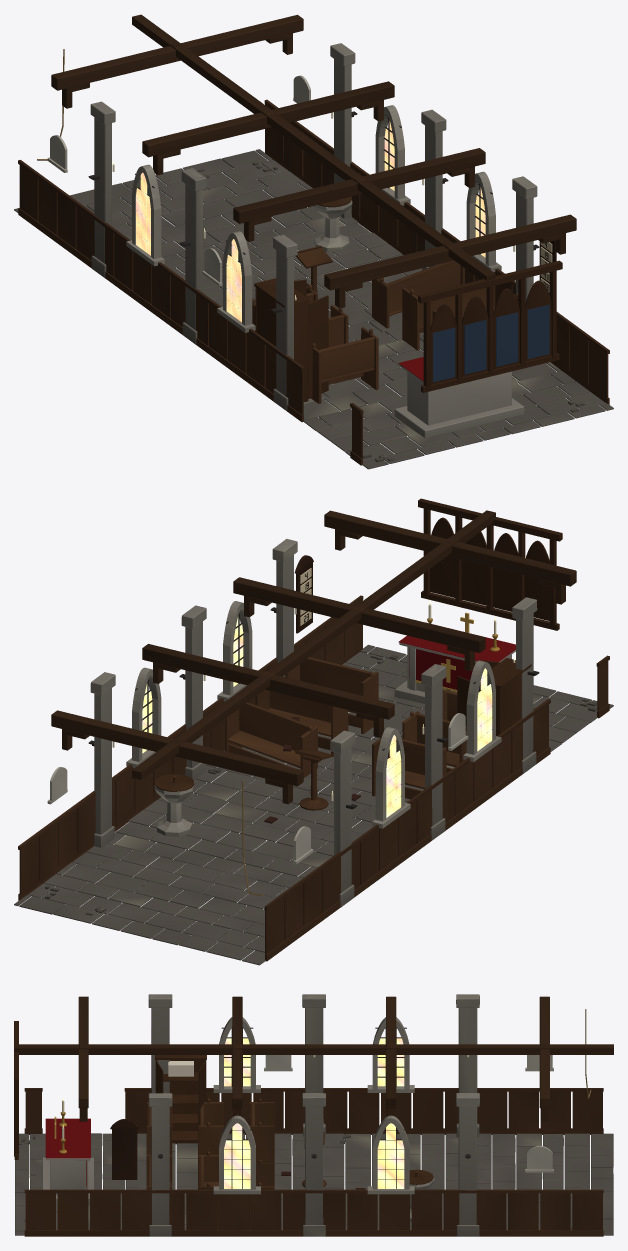
File: chapel-interior.glb
3 renders of one model, top to bottom at view 1: azimuth 30°, elevation 25°; view 2: azimuth 150°, elevation 25°; view 3: azimuth 270°, elevation 25°, orthographic. The views are drawn at different scales.
Parts seen in each view (by area): view 1: chapel-wood, chapel-floor, chapel-stone, chapel-cloth, chapel-window-glass, chapel-stair-cover, chapel-iron; view 2: chapel-wood, chapel-floor, chapel-stone, chapel-window-glass, chapel-cloth, chapel-iron; view 3: chapel-wood, chapel-stone, chapel-floor, chapel-window-glass, chapel-cloth, chapel-iron, chapel-stair-cover.
Boxes of the visible parts, x1=… form: chapel-wood: x1=18, y1=14, x2=609, y2=465; chapel-floor: x1=14, y1=149, x2=613, y2=469; chapel-stone: x1=47, y1=43, x2=588, y2=462; chapel-cloth: x1=37, y1=49, x2=549, y2=382; chapel-window-glass: x1=136, y1=121, x2=485, y2=322; chapel-stair-cover: x1=448, y1=419, x2=511, y2=447; chapel-iron: x1=88, y1=111, x2=548, y2=313; chapel-wood: x1=18, y1=498, x2=609, y2=961; chapel-floor: x1=14, y1=644, x2=613, y2=965; chapel-stone: x1=45, y1=538, x2=596, y2=915; chapel-window-glass: x1=142, y1=617, x2=492, y2=817; chapel-cloth: x1=241, y1=622, x2=515, y2=895; chapel-iron: x1=88, y1=572, x2=539, y2=809; chapel-wood: x1=14, y1=996, x2=613, y2=1236; chapel-stone: x1=19, y1=994, x2=572, y2=1236; chapel-floor: x1=15, y1=1133, x2=613, y2=1235; chapel-window-glass: x1=224, y1=1038, x2=404, y2=1188; chapel-cloth: x1=45, y1=1009, x2=591, y2=1186; chapel-iron: x1=158, y1=1027, x2=470, y2=1188; chapel-stair-cover: x1=15, y1=1170, x2=42, y2=1192.
Bounding box in the file's own units: 5.06 × 3.19 × 11.71.
